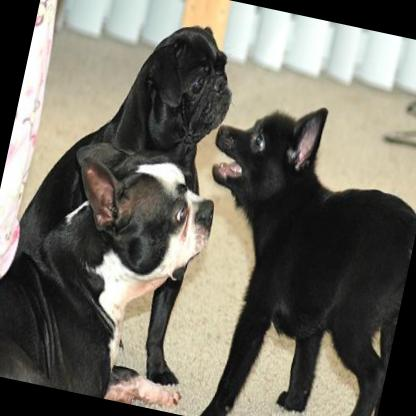schipperke: (158, 87, 416, 416)
